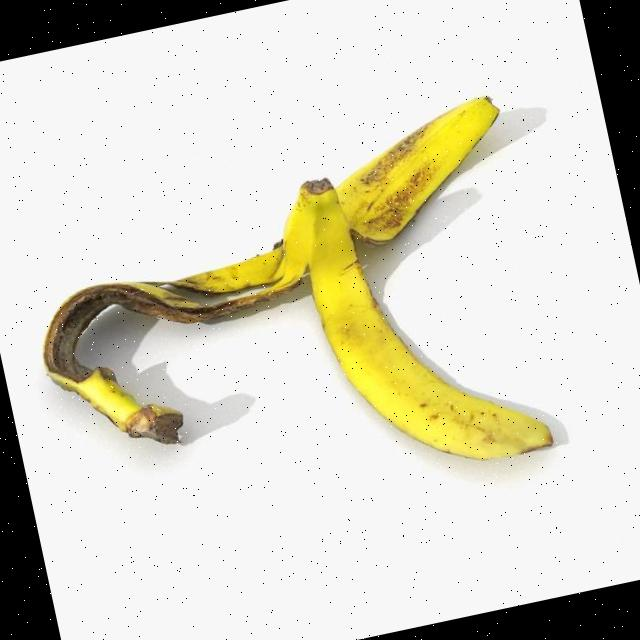banana-peel: (6, 90, 571, 548)
